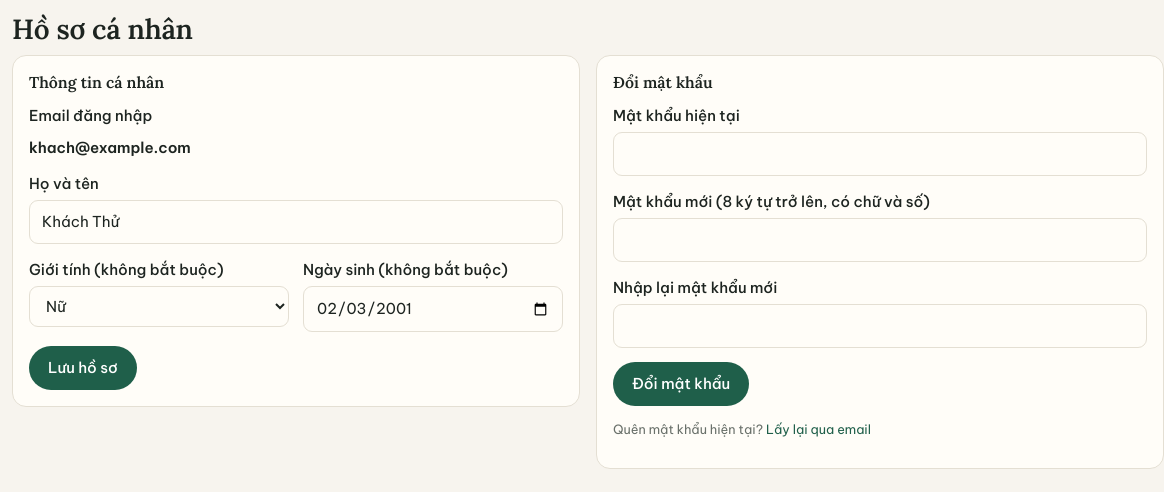
ProfilePage › điền sẵn hồ sơ, lưu thì gửi họ tên đã bỏ khoảng trắng và cập nhật tài khoản đang hiện
Expected: the text "khach@example.com" is shown, [29,138,191,157]
Expected: the dropdown labelled "Giới tính (không bắt buộc)" shows "Nữ", [29,286,289,327]
Replace the text in the field labelled "Họ và tên" with "  Trần Thị B " at (296, 222), box [29,200,563,244]
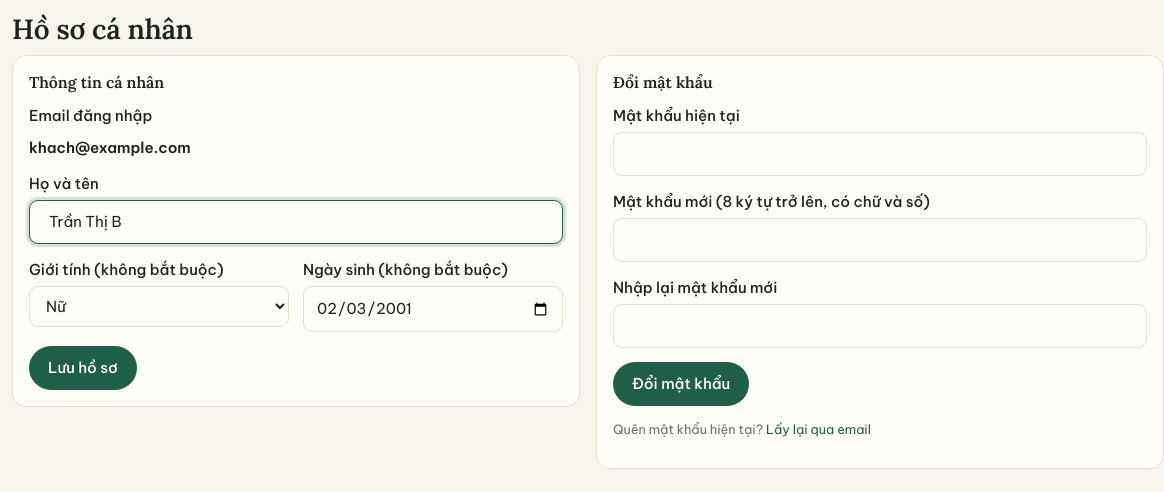
Select "Không chọn" in the dropdown labelled "Giới tính (không bắt buộc)" at (159, 307), box [29,286,289,327]
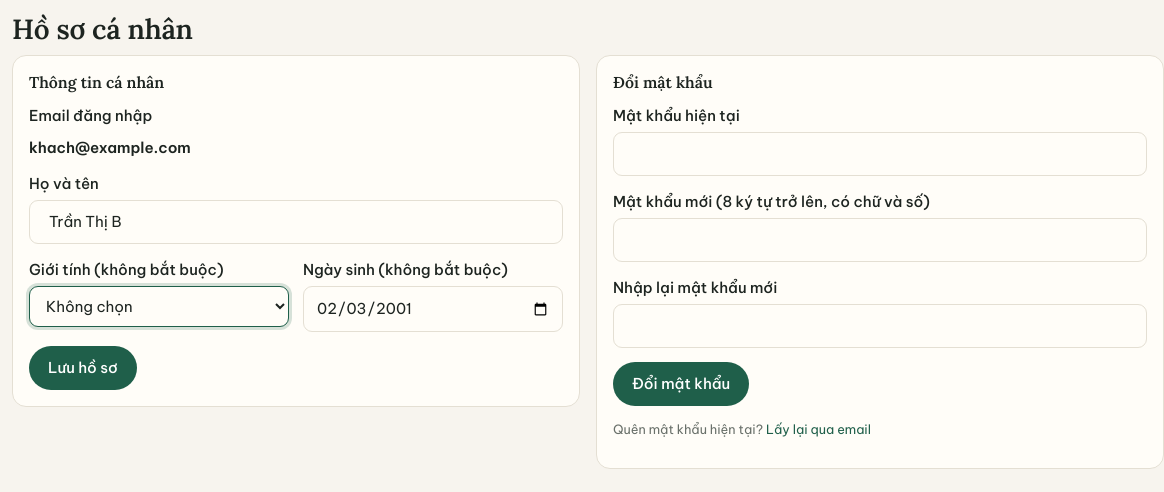
Click the button "Lưu hồ sơ".
click(83, 368)  # box [29,346,137,390]
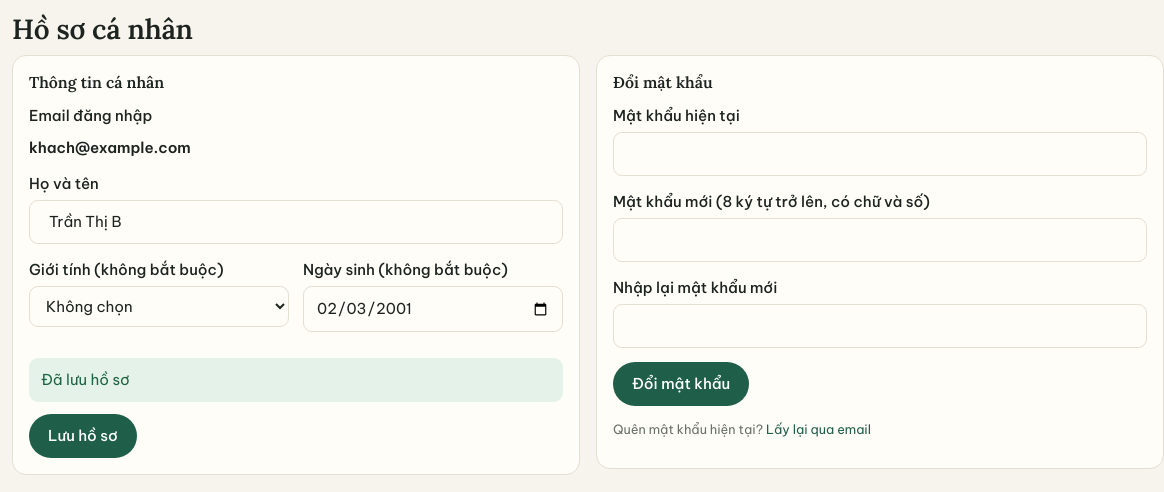
Expected: the text "Đã lưu hồ sơ" is shown, [29,358,563,402]
